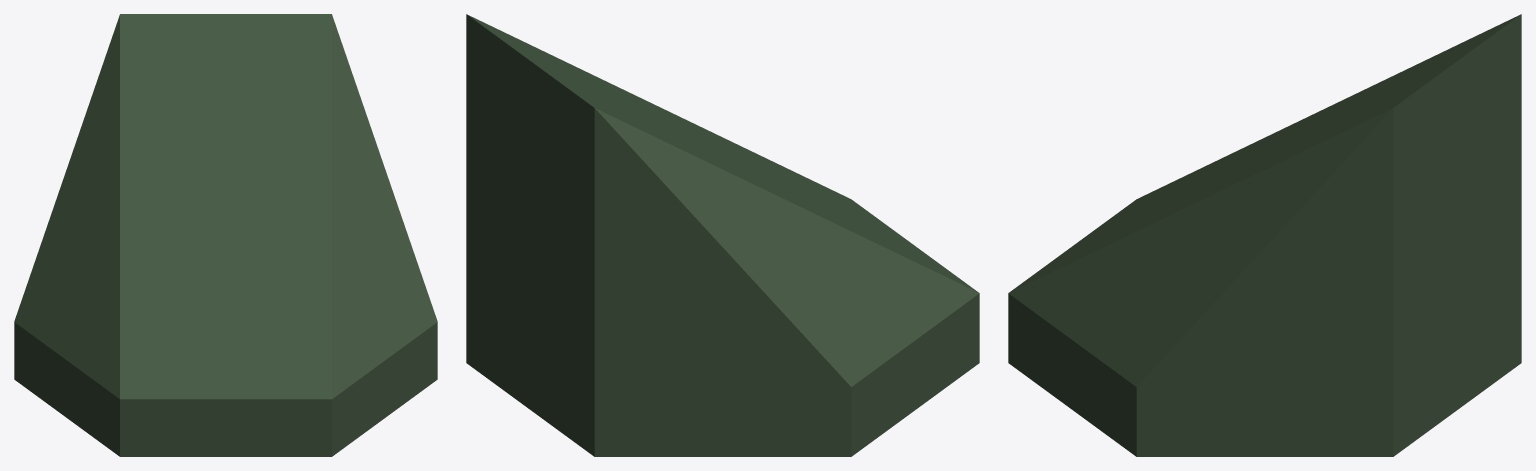
Rendered from 1tile2.glb.
3 renders of one model, left to right at view 1: azimuth 30°, elevation 25°; view 2: azimuth 150°, elevation 25°; view 3: azimuth 270°, elevation 25°, orthographic. The views are drawn at different scales.
Visible parts, largest first — view 1: GroundStairTile; view 2: GroundStairTile; view 3: GroundStairTile.
Part boxes in pixels (x1,y1,x2,y2): GroundStairTile: [14, 14, 437, 456]; GroundStairTile: [466, 14, 979, 456]; GroundStairTile: [1008, 14, 1521, 456].
Bounding box in the file's own units: 1.73 × 1.5 × 2.
Materials: 1 (1 with a texture image).
